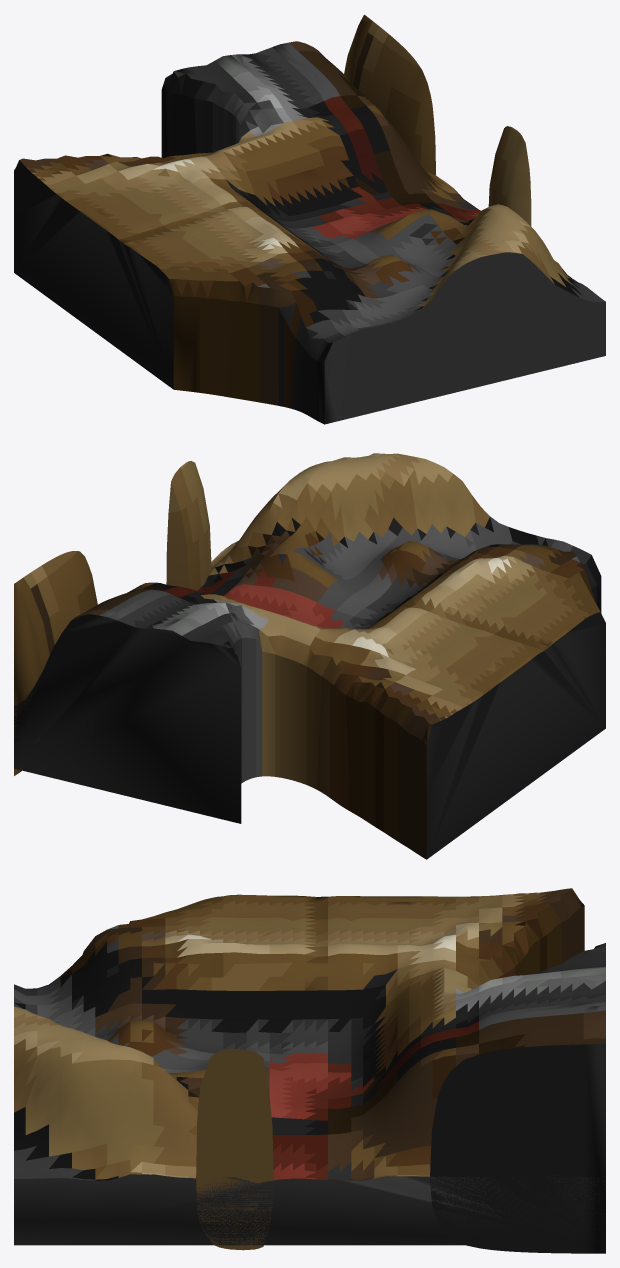
File: tusk_boss_50.glb
3 views of the same model, one above another, from view 1: azimuth 30°, elevation 25°; view 2: azimuth 150°, elevation 25°; view 3: azimuth 270°, elevation 25° (orthographic). The views are drawn at different scales.
Parts seen in each view (by area): view 1: tusk_boss_50_plates; view 2: tusk_boss_50_plates; view 3: tusk_boss_50_plates.
Boxes of the visible parts, bbox=[...] form: tusk_boss_50_plates: bbox=[14, 14, 605, 424]; tusk_boss_50_plates: bbox=[14, 453, 605, 859]; tusk_boss_50_plates: bbox=[14, 888, 605, 1253].
Size of the model in its own units: 24 by 10.95 by 28.
